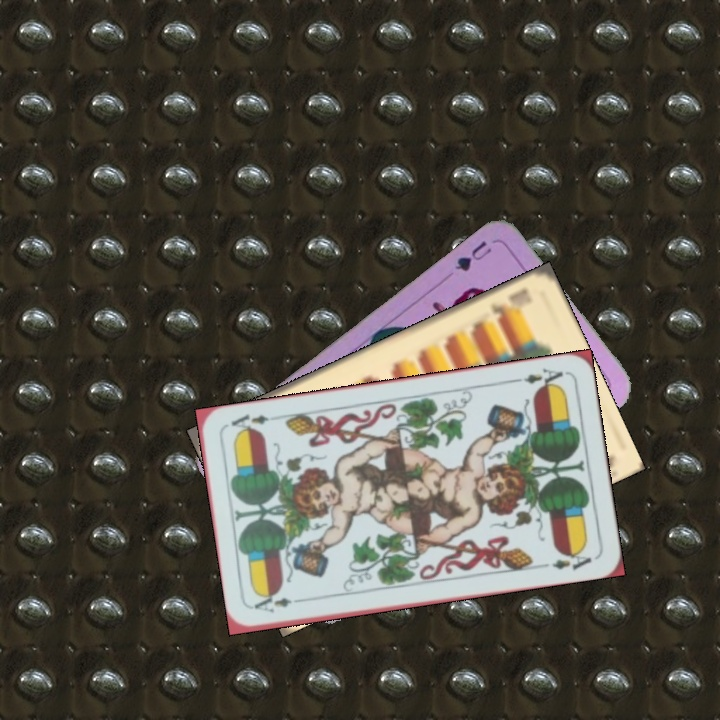E10: (486, 284, 531, 323)
EA: (509, 364, 566, 392), (250, 593, 309, 615)
GU: (450, 236, 495, 275)
